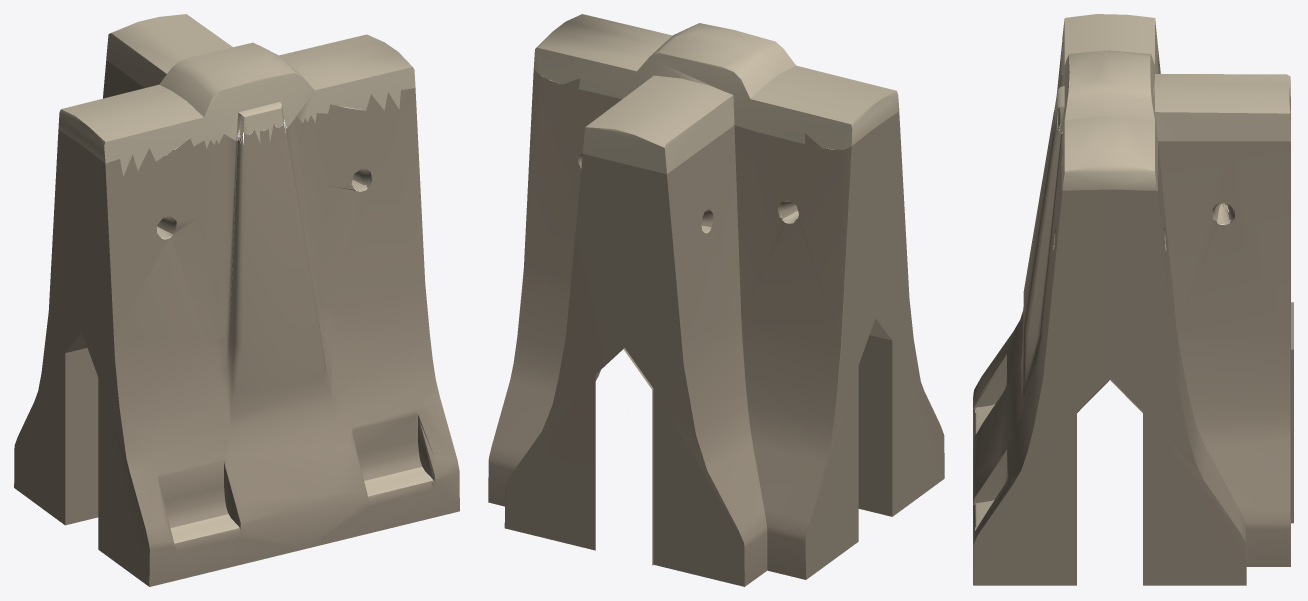
Rendered from stone-wall-new.glb.
3 views of the same model, side by side, from view 1: azimuth 30°, elevation 25°; view 2: azimuth 150°, elevation 25°; view 3: azimuth 270°, elevation 25° (orthographic). The views are drawn at different scales.
Parts seen in each view (by area): view 1: body; view 2: body; view 3: body.
Part boxes in pixels (bbox=[...]): body: bbox=[14, 14, 459, 586]; body: bbox=[488, 14, 944, 586]; body: bbox=[973, 14, 1293, 585].
Bounding box in the file's own units: 0.9921 × 1.32 × 0.8718.
